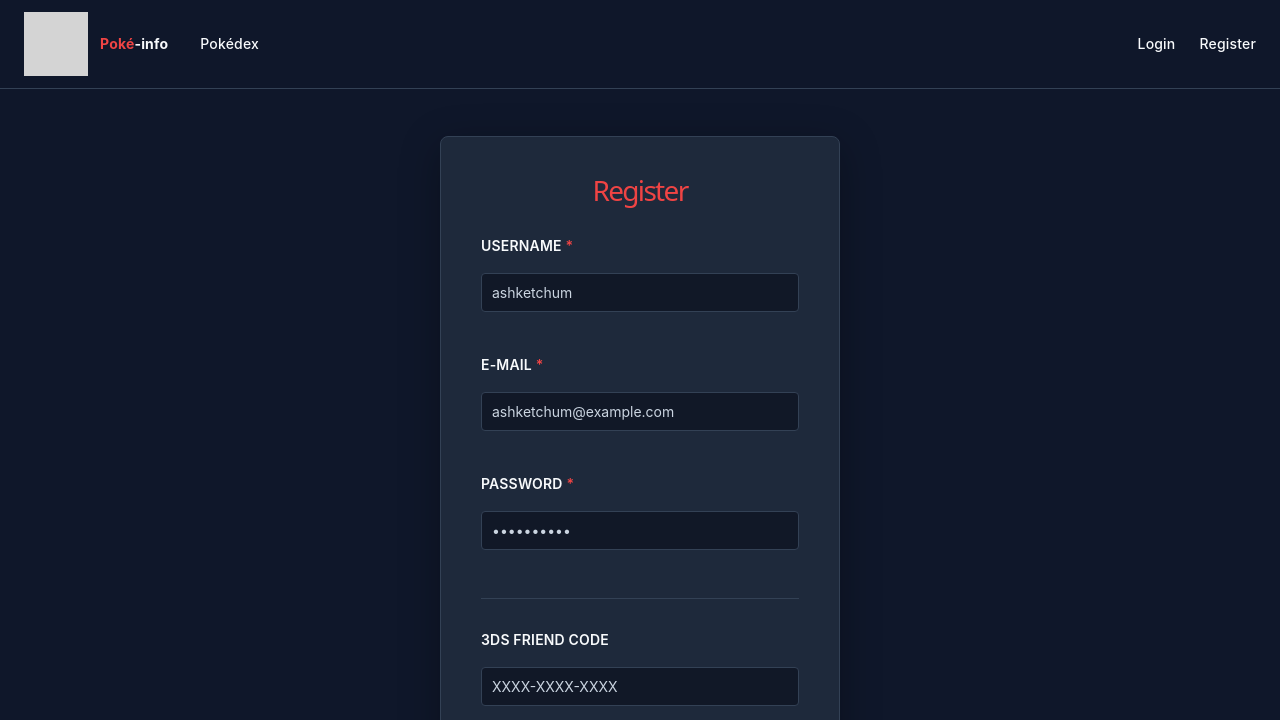
Test: Registration - Unhappy Path › should show error when email format is invalid
Type "testuser" into the field with test id "register-username". click: (640, 293)
box: [481,273,799,312]
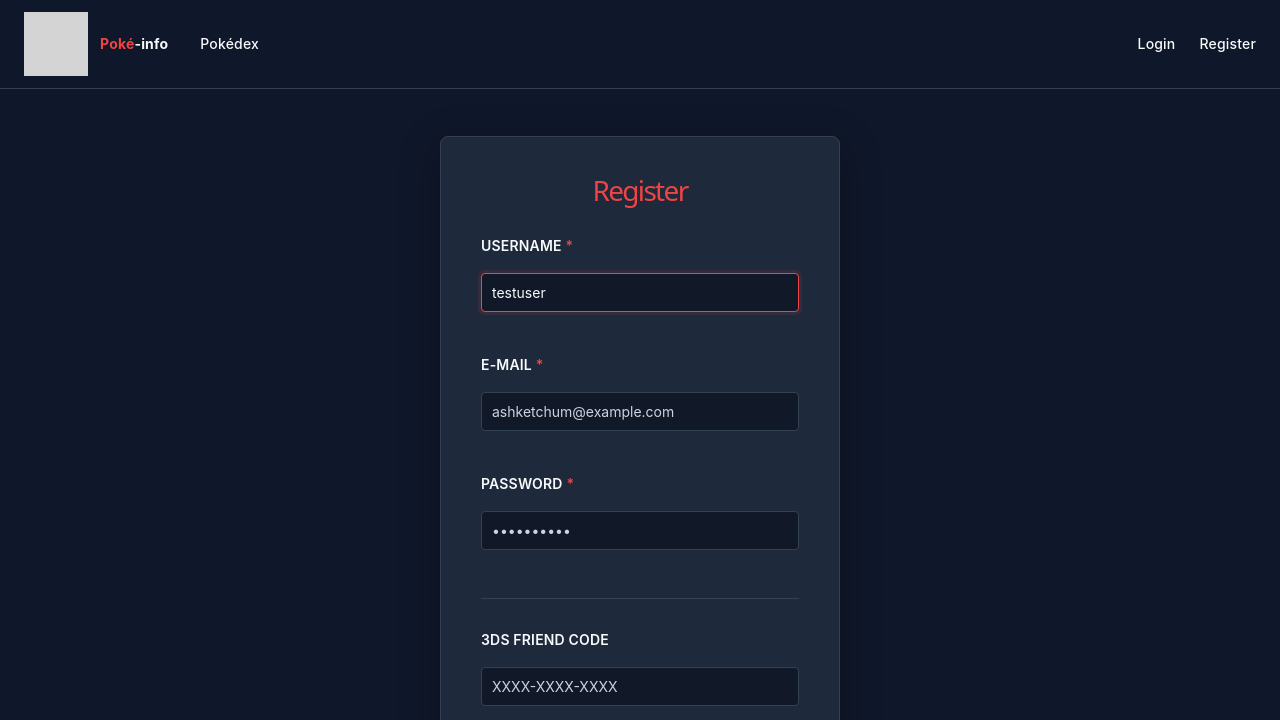
Type "invalidemail" into the field with test id "register-email". click: (640, 412)
box: [481,392,799,431]
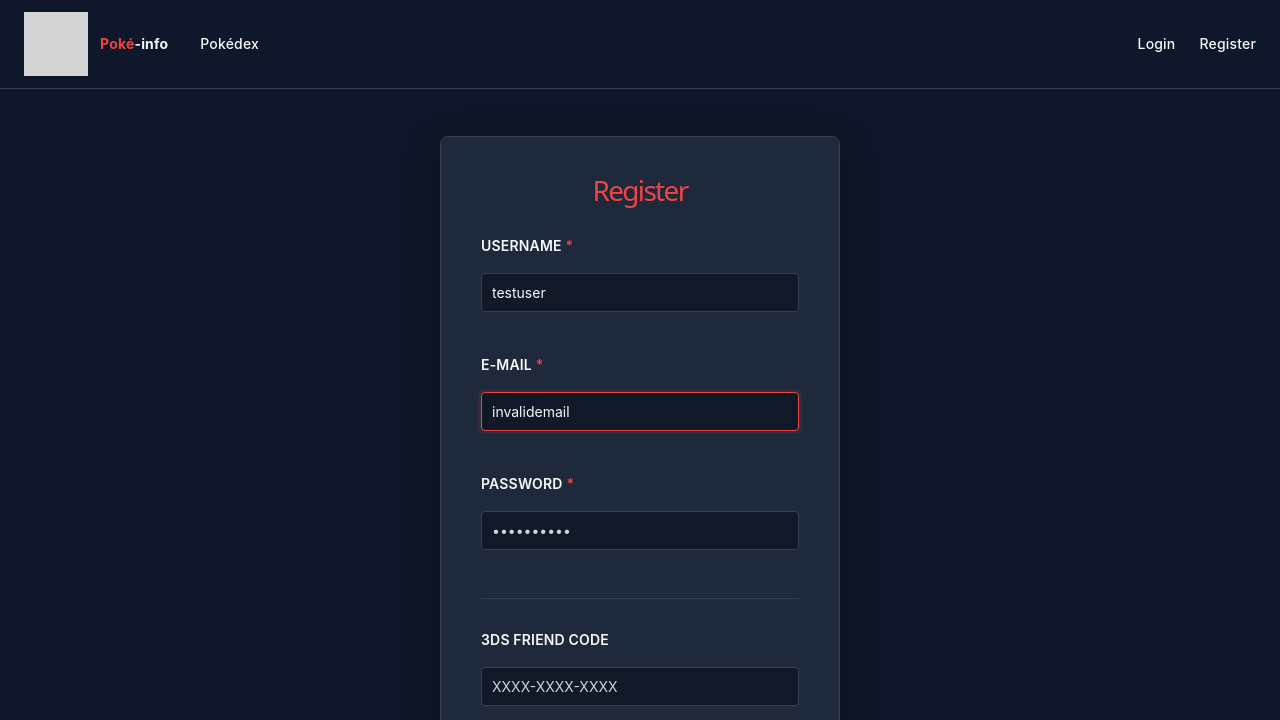
Type "Password123!" into the password field with test id "register-password". click: (640, 531)
box: [481,511,799,550]
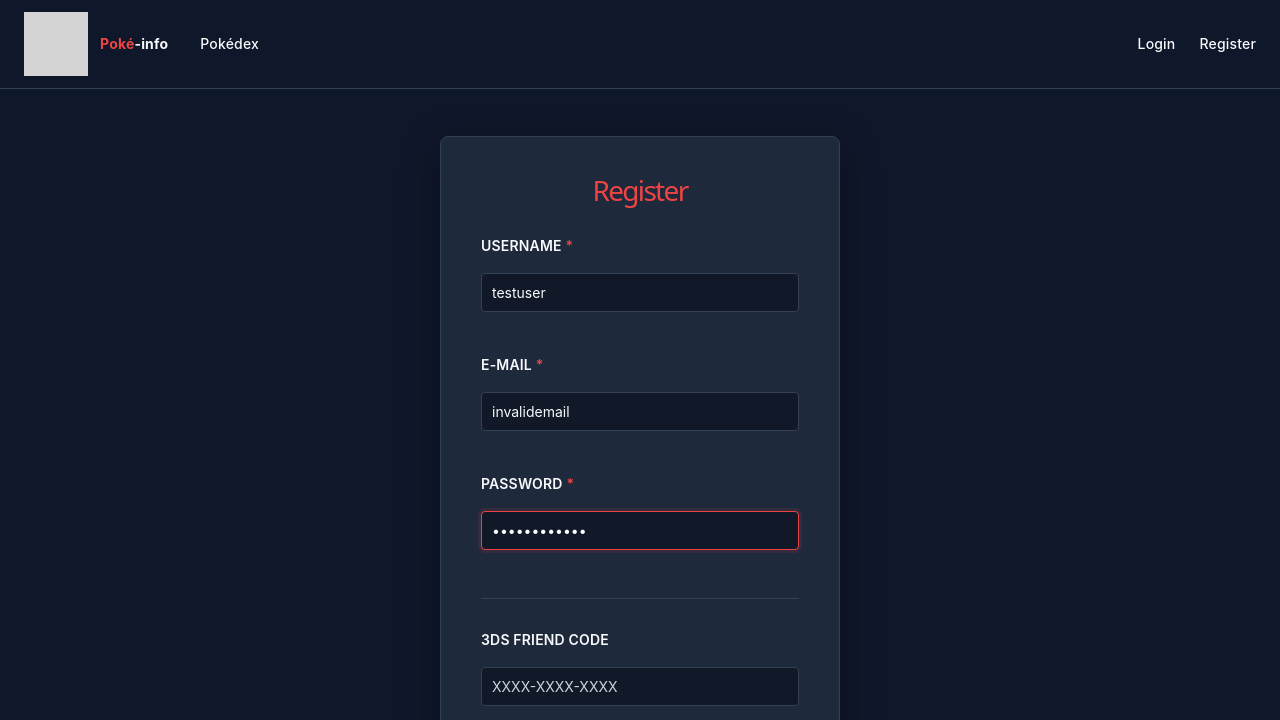
Scroll
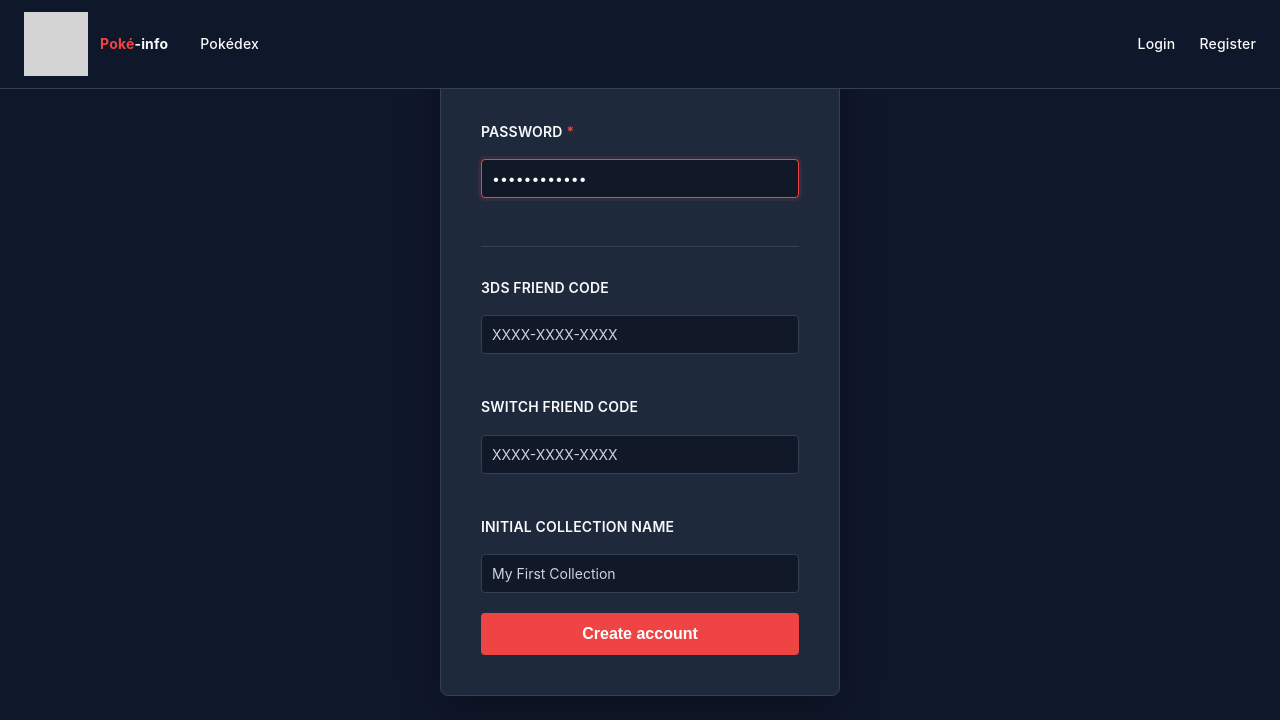
Click the button with test id "register-submit". click: click(640, 634)
box: [481,613,799,655]
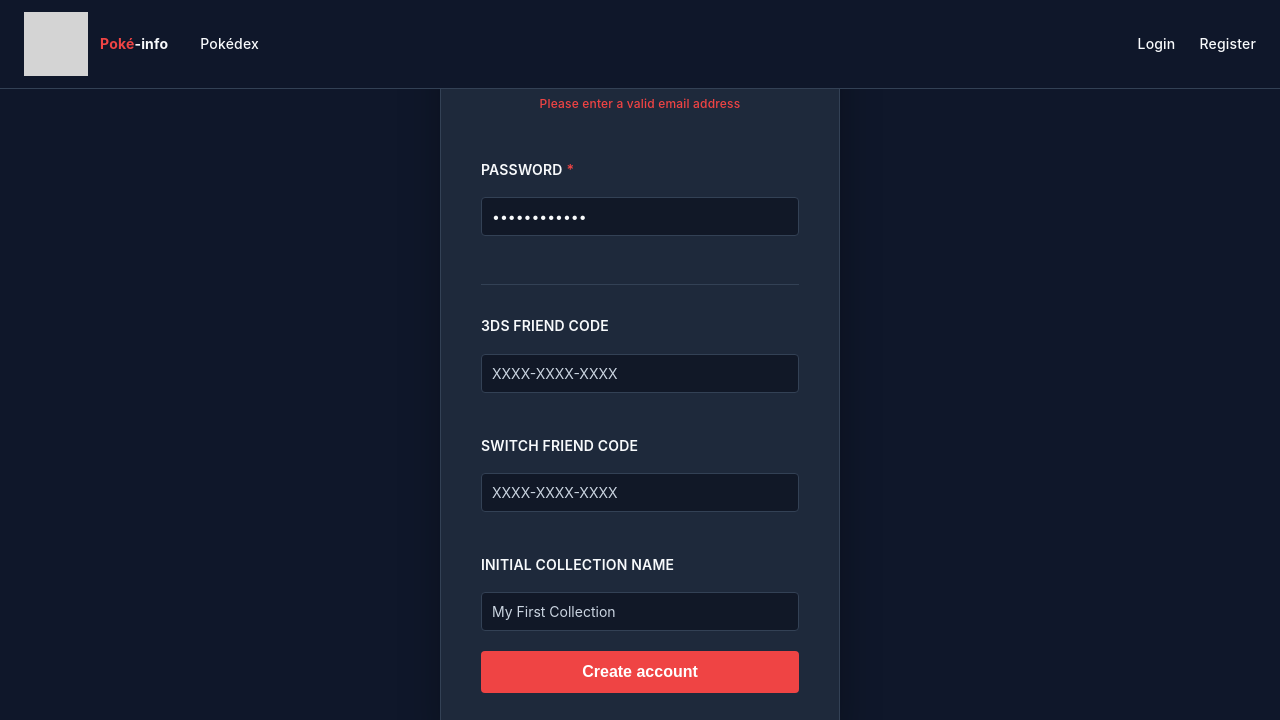
Expected: the text "Please enter a valid email address" is shown, [540,96,740,111]
